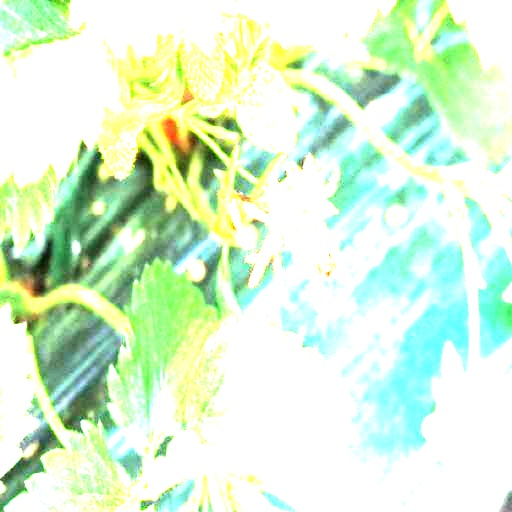Gray Mold: (245, 153, 342, 304)
